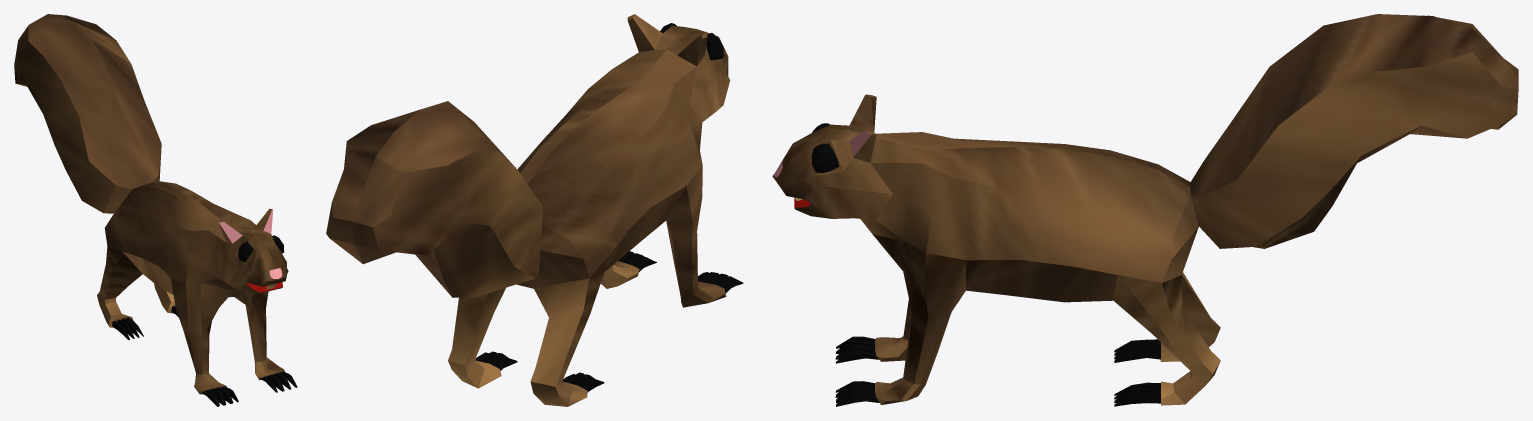
File: Squirrel.fbx
3 views of the same model, side by side, from view 1: azimuth 30°, elevation 25°; view 2: azimuth 150°, elevation 25°; view 3: azimuth 270°, elevation 25° (orthographic). The views are drawn at different scales.
Parts seen in each view (by area): view 1: Squirel; view 2: Squirel; view 3: Squirel.
Boxes of the visible parts, left/top/right/bottom form: Squirel: left=14, top=14, right=297, bottom=406; Squirel: left=326, top=14, right=743, bottom=406; Squirel: left=772, top=14, right=1518, bottom=406.
Bounding box in the file's own units: 69.64 × 182 × 337.
5 materials, 1 textured.
